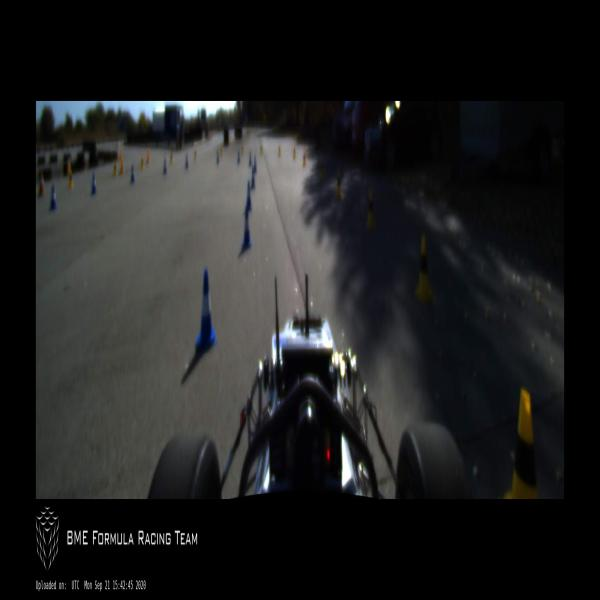blue_cone: (196, 270, 217, 353), (242, 210, 252, 249), (245, 182, 252, 211), (50, 186, 56, 209), (91, 172, 97, 194), (251, 167, 256, 189), (130, 165, 134, 183), (253, 156, 257, 173), (248, 150, 252, 166), (163, 159, 167, 174), (185, 154, 188, 169), (237, 150, 240, 163), (217, 150, 219, 163)
unknown_cone: (39, 171, 45, 197), (120, 157, 125, 174), (146, 148, 150, 164)
yellow_cone: (502, 386, 538, 499), (415, 236, 433, 306), (366, 189, 375, 230), (336, 170, 342, 199), (68, 170, 73, 188), (320, 158, 324, 180), (113, 162, 118, 176), (302, 152, 306, 167), (140, 156, 144, 169), (169, 151, 172, 164), (293, 147, 296, 159), (278, 145, 281, 157), (194, 148, 197, 160), (241, 146, 244, 156), (220, 146, 222, 157), (260, 145, 262, 154)
